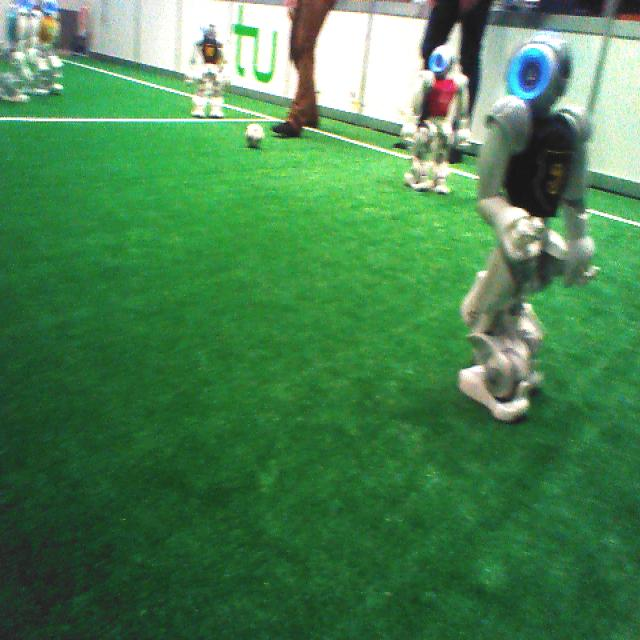ball: (231, 119, 273, 156)
